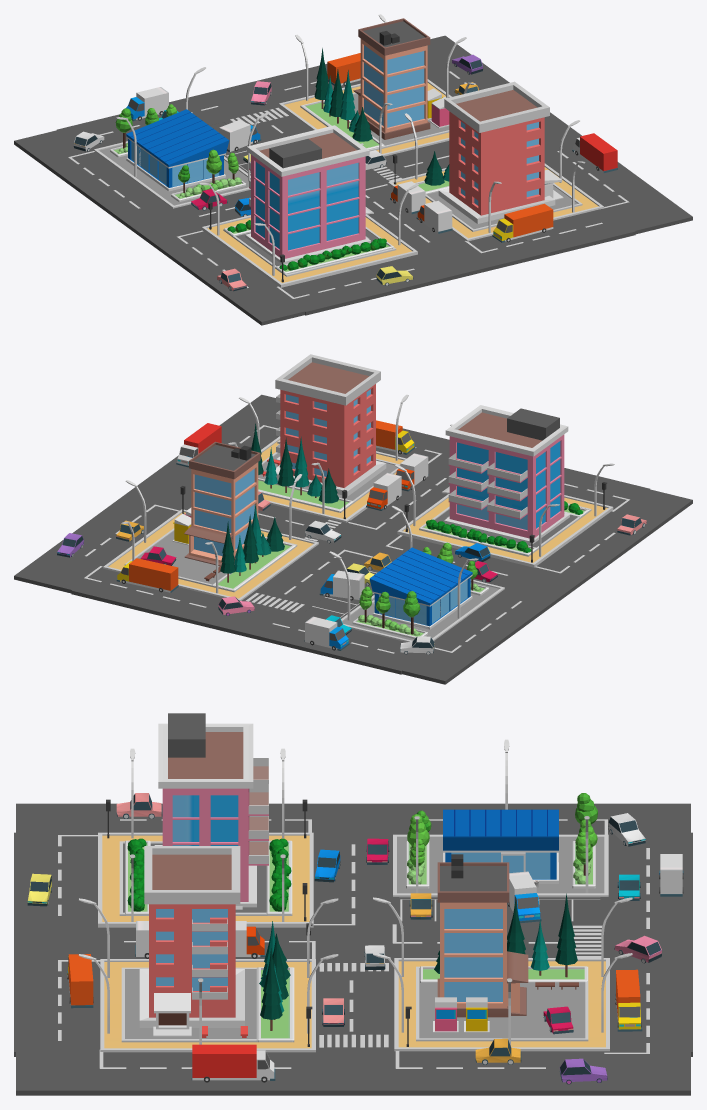
3 views of the same model, one above another, from view 1: azimuth 30°, elevation 25°; view 2: azimuth 150°, elevation 25°; view 3: azimuth 270°, elevation 25° (orthographic). The views are drawn at different scales.
Parts seen in each view (by area): view 1: ROAD_Lines_12_Mesh.098, House_Mesh.025, House_2_Mesh.002, House_3_Mesh.056, Shop_Mesh.057, Floor_Mesh.035, Floor_4_4_Mesh.090, Floor_2_Mesh.044, Car_08_3_Mesh.013, Floor_3_Mesh.069, Car_08_4_Mesh.012, Floor_4_2_Mesh.043 (+11 smaller); view 2: ROAD_Lines_12_Mesh.098, House_Mesh.025, House_2_Mesh.002, House_3_Mesh.056, Shop_Mesh.057, Floor_Mesh.035, Floor_3_Mesh.069, Floor_4_4_Mesh.090, Floor_4_3_Mesh.068, Car_08_5_Mesh.021, Floor_2_Mesh.044, Car_08_1_Mesh.019 (+13 smaller); view 3: ROAD_Lines_12_Mesh.098, House_2_Mesh.002, House_Mesh.025, House_3_Mesh.056, Shop_Mesh.057, Floor_3_Mesh.069, Floor_2_Mesh.044, Floor_4_3_Mesh.068, Floor_Mesh.035, Floor_4_4_Mesh.090, Floor_4_2_Mesh.043, Car_08_4_Mesh.012 (+28 smaller).
Boxes of the visible parts, bbox=[...] form: ROAD_Lines_12_Mesh.098: bbox=[14, 35, 692, 325]; House_Mesh.025: bbox=[245, 125, 373, 264]; House_2_Mesh.002: bbox=[438, 81, 563, 223]; House_3_Mesh.056: bbox=[353, 18, 430, 139]; Shop_Mesh.057: bbox=[126, 109, 229, 191]; Floor_Mesh.035: bbox=[201, 214, 417, 287]; Floor_4_4_Mesh.090: bbox=[94, 141, 250, 208]; Floor_2_Mesh.044: bbox=[388, 163, 604, 241]; Car_08_3_Mesh.013: bbox=[492, 203, 553, 242]; Floor_3_Mesh.069: bbox=[278, 79, 451, 156]; Car_08_4_Mesh.012: bbox=[572, 133, 617, 173]; Floor_4_2_Mesh.043: bbox=[425, 183, 582, 231]; ROAD_Lines_12_Mesh.098: bbox=[14, 394, 692, 684]; House_Mesh.025: bbox=[441, 405, 569, 544]; House_2_Mesh.002: bbox=[275, 354, 386, 496]; House_3_Mesh.056: bbox=[184, 441, 260, 566]; Shop_Mesh.057: bbox=[369, 547, 472, 629]; Floor_Mesh.035: bbox=[397, 494, 613, 567]; Floor_3_Mesh.069: bbox=[103, 509, 318, 600]; Floor_4_4_Mesh.090: bbox=[341, 579, 504, 642]; Floor_4_3_Mesh.068: bbox=[124, 528, 297, 592]; Car_08_5_Mesh.021: bbox=[116, 558, 178, 592]; Floor_2_Mesh.044: bbox=[261, 436, 406, 522]; Car_08_1_Mesh.019: bbox=[304, 616, 349, 650]; ROAD_Lines_12_Mesh.098: bbox=[14, 803, 692, 1095]; House_2_Mesh.002: bbox=[139, 846, 244, 1036]; House_Mesh.025: bbox=[154, 713, 268, 909]; House_3_Mesh.056: bbox=[437, 854, 528, 1017]; Shop_Mesh.057: bbox=[443, 809, 558, 883]; Floor_3_Mesh.069: bbox=[394, 958, 609, 1051]; Floor_2_Mesh.044: bbox=[100, 959, 315, 1052]; Floor_4_3_Mesh.068: bbox=[416, 966, 588, 1041]; Floor_Mesh.035: bbox=[98, 832, 313, 927]; Floor_4_4_Mesh.090: bbox=[393, 834, 608, 897]; Floor_4_2_Mesh.043: bbox=[121, 967, 294, 1042]; Car_08_4_Mesh.012: bbox=[191, 1044, 275, 1082].
Size of the model in its own units: 10.96 by 2.74 by 10.96.
1 material, 1 textured.
